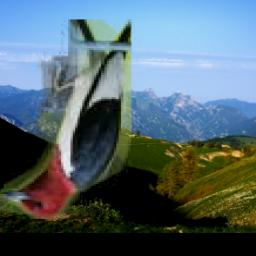Woodpecker: (0, 19, 132, 219)
